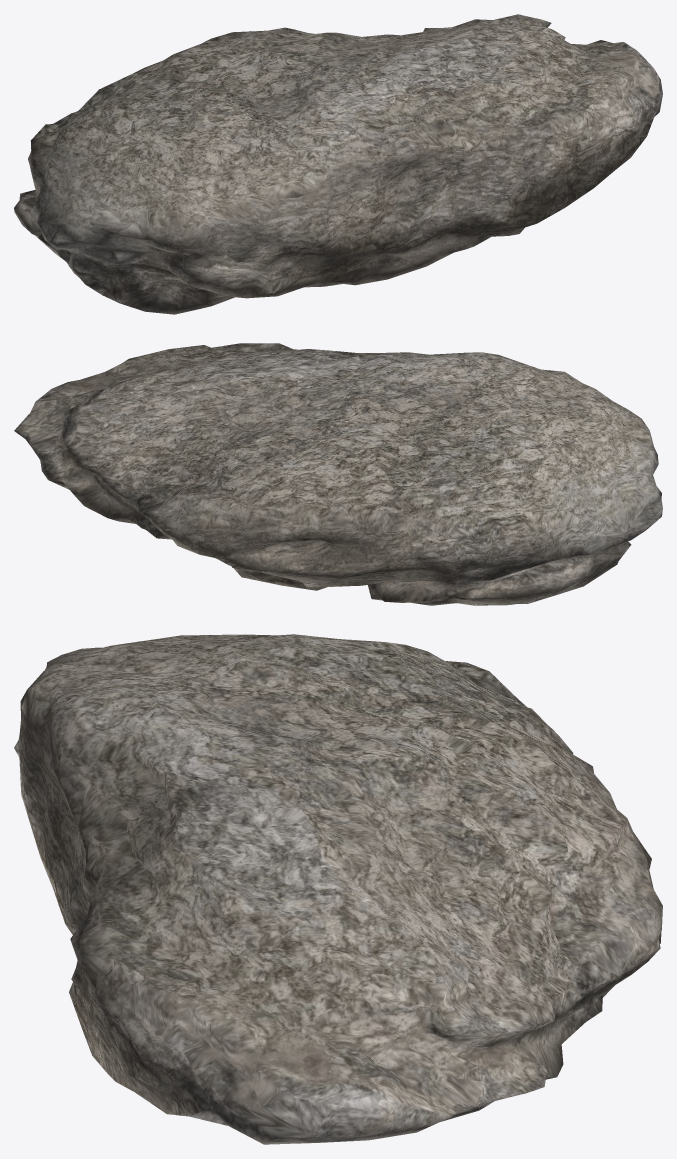
Rendered from slab_a_lod1.glb.
3 views of the same model, one above another, from view 1: azimuth 30°, elevation 25°; view 2: azimuth 150°, elevation 25°; view 3: azimuth 270°, elevation 25° (orthographic). The views are drawn at different scales.
Parts seen in each view (by area): view 1: slab_a_lod1; view 2: slab_a_lod1; view 3: slab_a_lod1.
Boxes of the visible parts, box(x1,y1,x2,y2) form: slab_a_lod1: box(14, 14, 662, 314); slab_a_lod1: box(14, 343, 662, 605); slab_a_lod1: box(14, 634, 662, 1144).
Size of the model in its own units: 6.99 by 1.75 by 4.21.
Materials: 1 (1 with a texture image).
